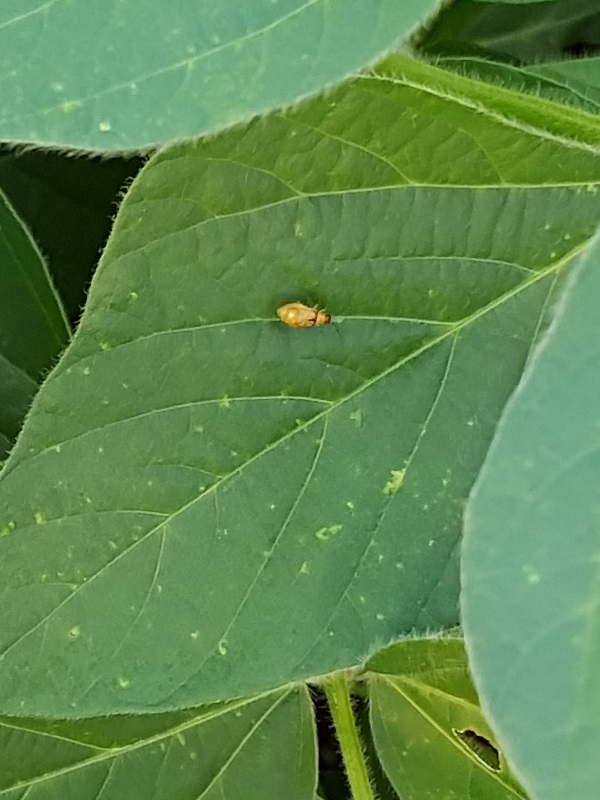Diabrotica_speciosa: (257, 285, 343, 345)
